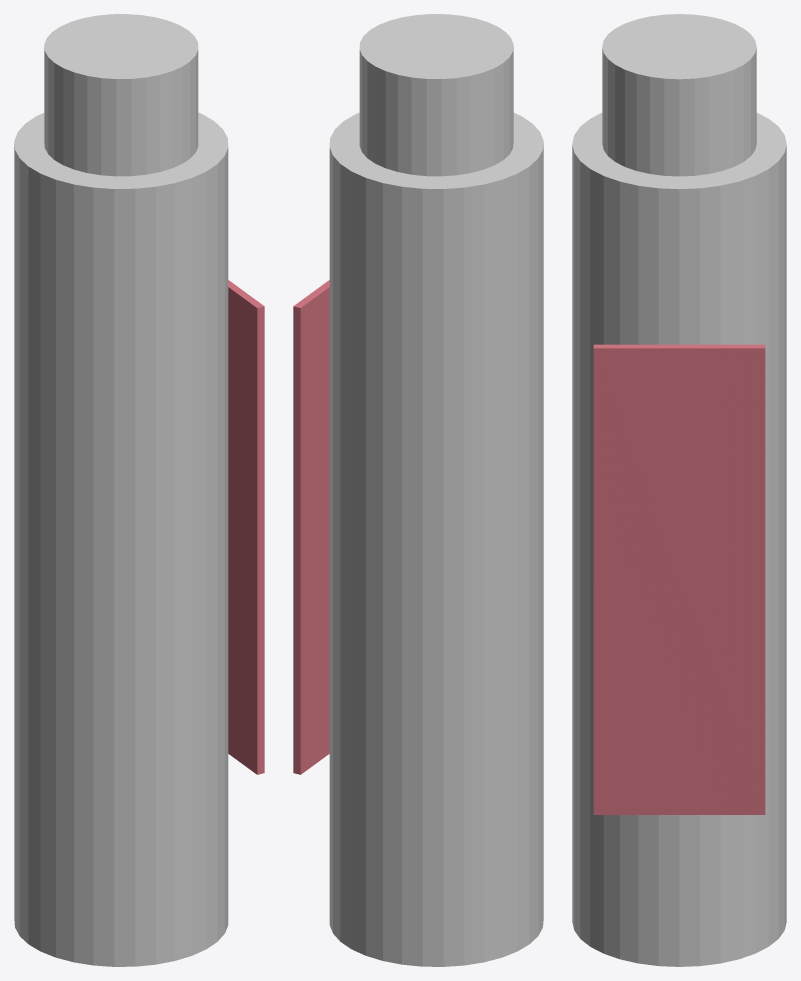
The model's file is prop_lubricant_bottle_a.glb.
The picture shows the model from 3 angles, left to right: view 1: azimuth 30°, elevation 25°; view 2: azimuth 150°, elevation 25°; view 3: azimuth 270°, elevation 25°; orthographic projection.
Visible parts, largest first — view 1: prop_lubricant_bottle_a; view 2: prop_lubricant_bottle_a; view 3: prop_lubricant_bottle_a.
Boxes of the visible parts, x1,y1,x2,y2 form: prop_lubricant_bottle_a: (14, 14, 264, 966); prop_lubricant_bottle_a: (293, 14, 543, 966); prop_lubricant_bottle_a: (572, 14, 786, 966).
Size of the model in its own units: 0.052 by 0.225 by 0.05.
